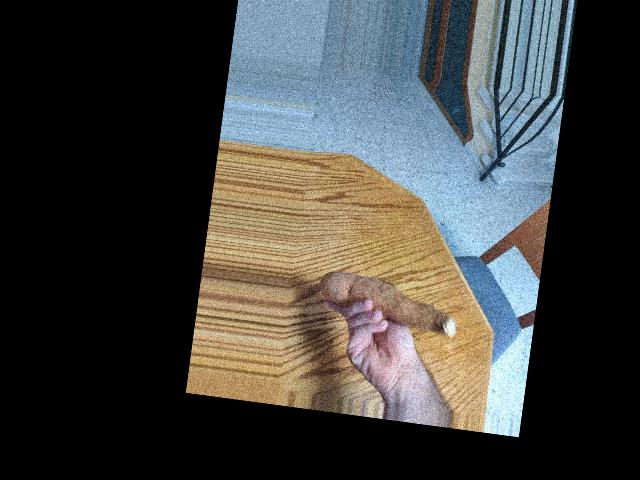sweet_potato: (320, 263, 455, 341)
